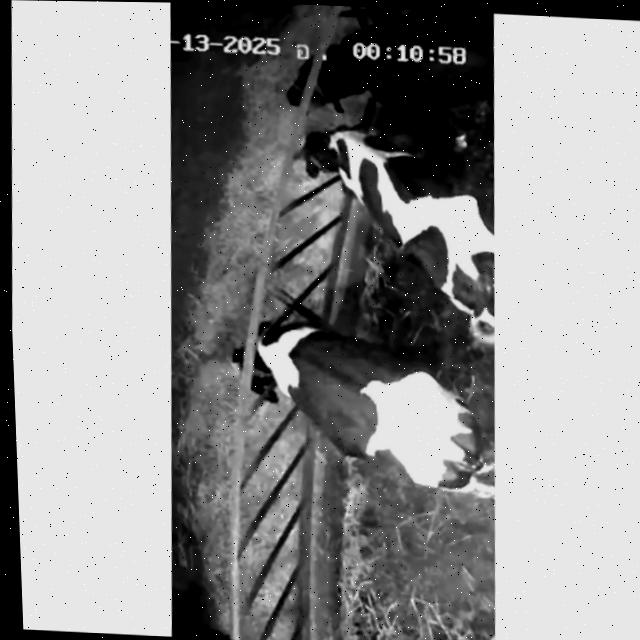eat: (174, 290, 371, 434), (220, 106, 435, 219), (238, 4, 441, 113)
